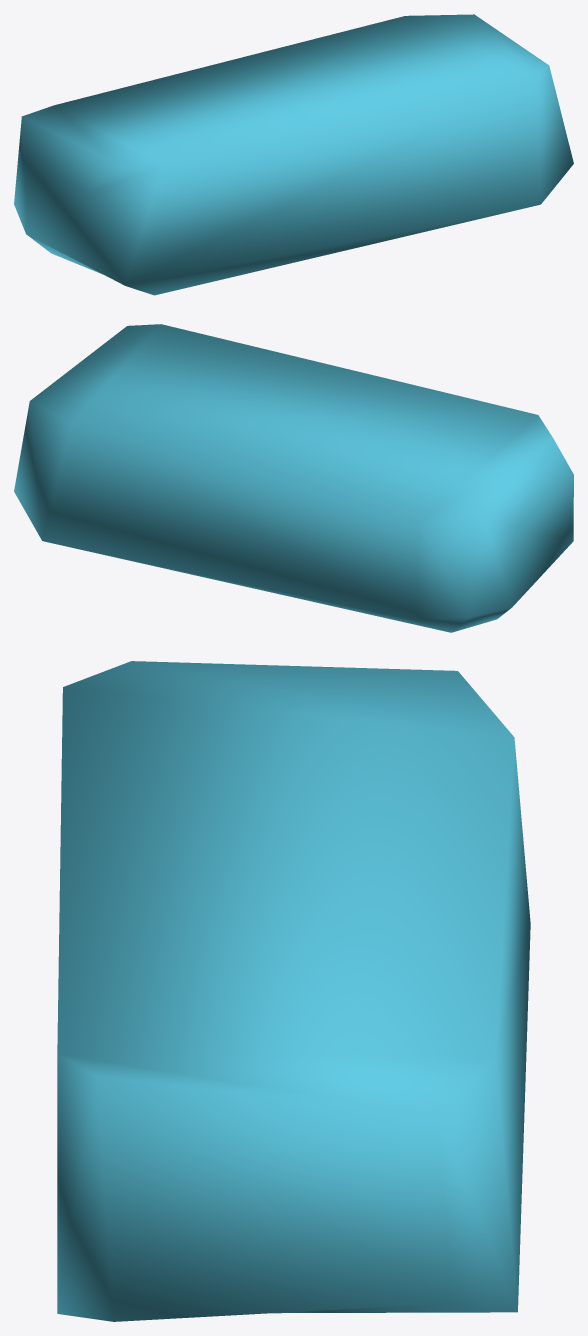
The model's file is stone brick_04.FBX.
3 renders of one model, top to bottom at view 1: azimuth 30°, elevation 25°; view 2: azimuth 150°, elevation 25°; view 3: azimuth 270°, elevation 25°, orthographic. The views are drawn at different scales.
Visible parts, largest first — view 1: stone brick_04; view 2: stone brick_04; view 3: stone brick_04.
Boxes of the visible parts, x1=… form: stone brick_04: x1=14, y1=14, x2=573, y2=295; stone brick_04: x1=14, y1=324, x2=573, y2=632; stone brick_04: x1=57, y1=661, x2=530, y2=1321.
Size of the model in its own units: 27.6 by 7.6 by 11.79.
